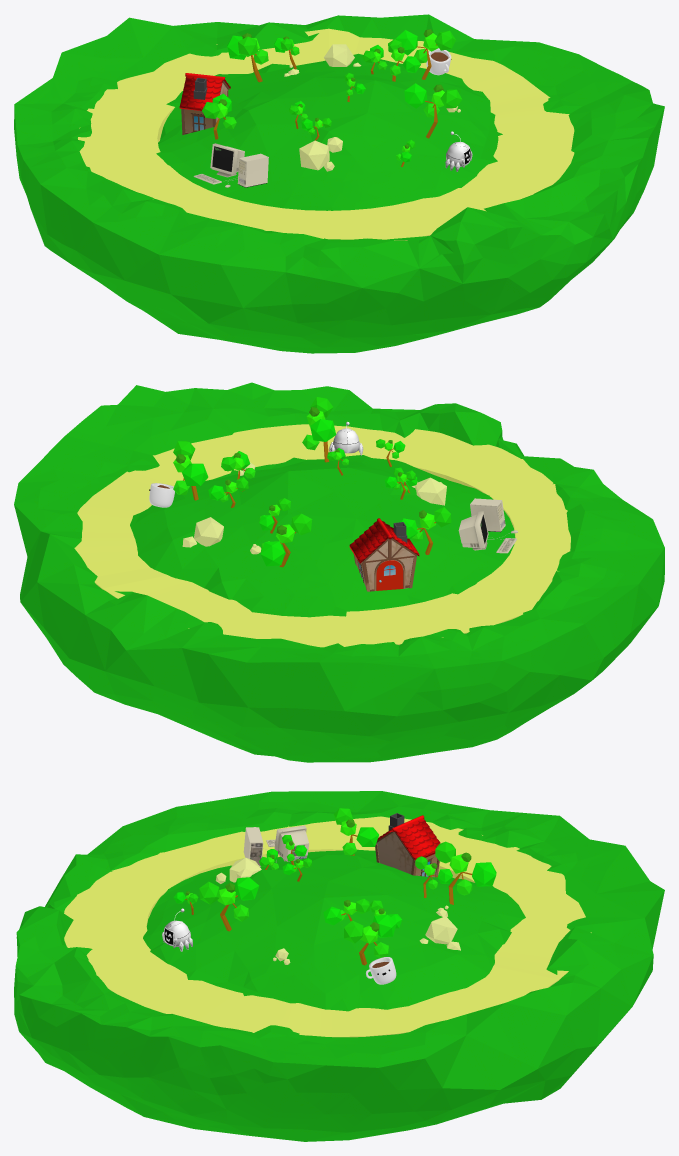
The model's file is home9_compressed.glb.
3 views of the same model, one above another, from view 1: azimuth 30°, elevation 25°; view 2: azimuth 150°, elevation 25°; view 3: azimuth 270°, elevation 25° (orthographic). The views are drawn at different scales.
Visible parts, largest first — view 1: Icosphere, Cube, Object_68, retro_computer_setup_retro_computer_setup_Mat_0, pCube11_lumirere_0; view 2: Icosphere, Cube, Object_68, retro_computer_setup_retro_computer_setup_Mat_0, pCube11_lumirere_0; view 3: Icosphere, Cube, Object_68, retro_computer_setup_retro_computer_setup_Mat_0, pCube11_lumirere_0, Object_8.
Boxes of the visible parts, x1,y1,x2,y2 form: Icosphere: (14,14,664,353); Cube: (202,29,462,171); Object_68: (179,73,230,134); retro_computer_setup_retro_computer_setup_Mat_0: (193,143,268,187); pCube11_lumirere_0: (445,131,472,171); Icosphere: (14,382,664,762); Cube: (157,397,451,567); Object_68: (349,518,419,591); retro_computer_setup_retro_computer_setup_Mat_0: (458,498,517,553); pCube11_lumirere_0: (329,421,363,455); Icosphere: (14,791,664,1141); Cube: (173,808,496,975); Object_68: (375,813,440,877); retro_computer_setup_retro_computer_setup_Mat_0: (243,825,309,866); pCube11_lumirere_0: (162,908,192,951); Object_8: (366,957,396,984).
Bounding box in the file's own units: 1.99 × 0.8576 × 1.94.
Materials: 8 (7 with a texture image).
